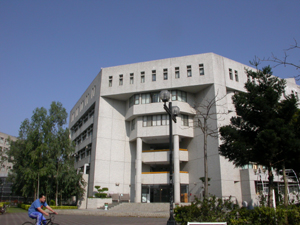building: (69, 53, 299, 203)
